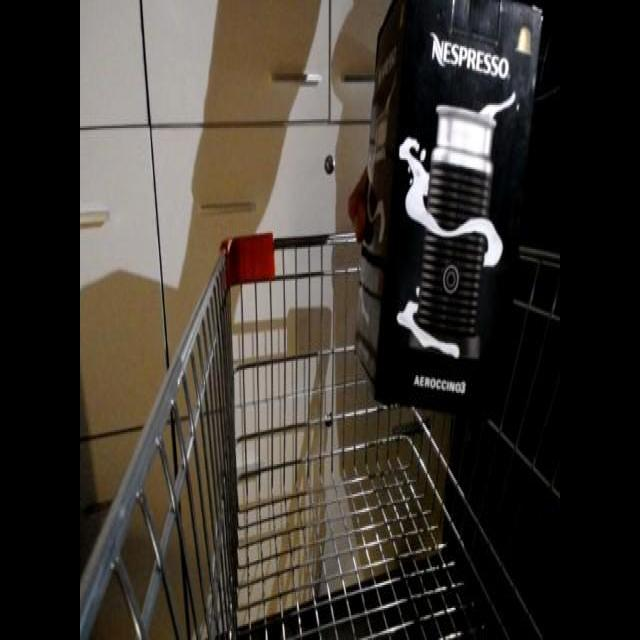Nespresso: (347, 0, 551, 428)
